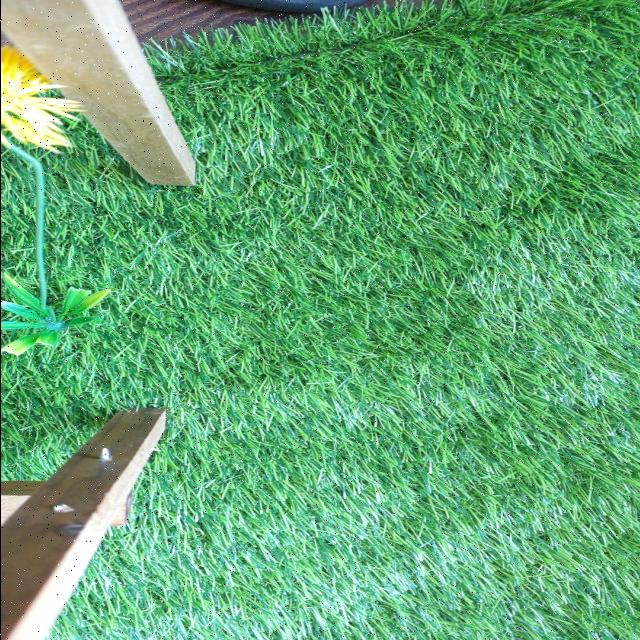base: (0, 273, 109, 356)
flower: (0, 44, 84, 150)
